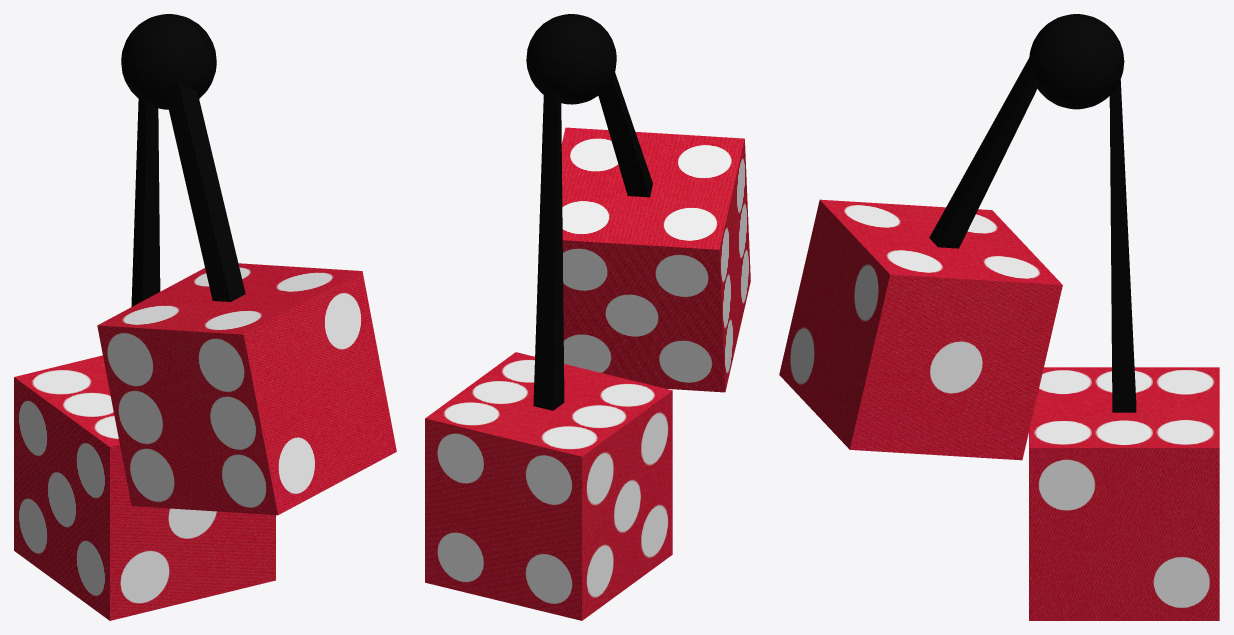
Rendered from Fuzzy Dices.fbx.
3 views of the same model, side by side, from view 1: azimuth 30°, elevation 25°; view 2: azimuth 150°, elevation 25°; view 3: azimuth 270°, elevation 25° (orthographic). The views are drawn at different scales.
Parts seen in each view (by area): view 1: Dice.001, Dice, Cube.001, Sphere, Cube; view 2: Dice, Dice.001, Cube, Sphere, Cube.001; view 3: Dice.001, Dice, Sphere, Cube, Cube.001.
Part boxes in pixels (<box>): Dice.001: <box>97,263,396,515</box>; Dice: <box>14,355,275,620</box>; Cube.001: <box>166,79,245,301</box>; Sphere: <box>121,14,216,109</box>; Cube: <box>131,99,160,306</box>; Dice: <box>425,352,672,620</box>; Dice.001: <box>561,127,750,392</box>; Cube: <box>533,88,564,410</box>; Sphere: <box>526,14,616,104</box>; Cube.001: <box>598,72,652,197</box>; Dice.001: <box>779,199,1062,460</box>; Dice: <box>1029,367,1219,620</box>; Sphere: <box>1029,14,1124,109</box>; Cube: <box>1109,80,1136,412</box>; Cube.001: <box>929,58,1037,248</box>.
Bounding box in the file's own units: 549 × 1300 × 923.
